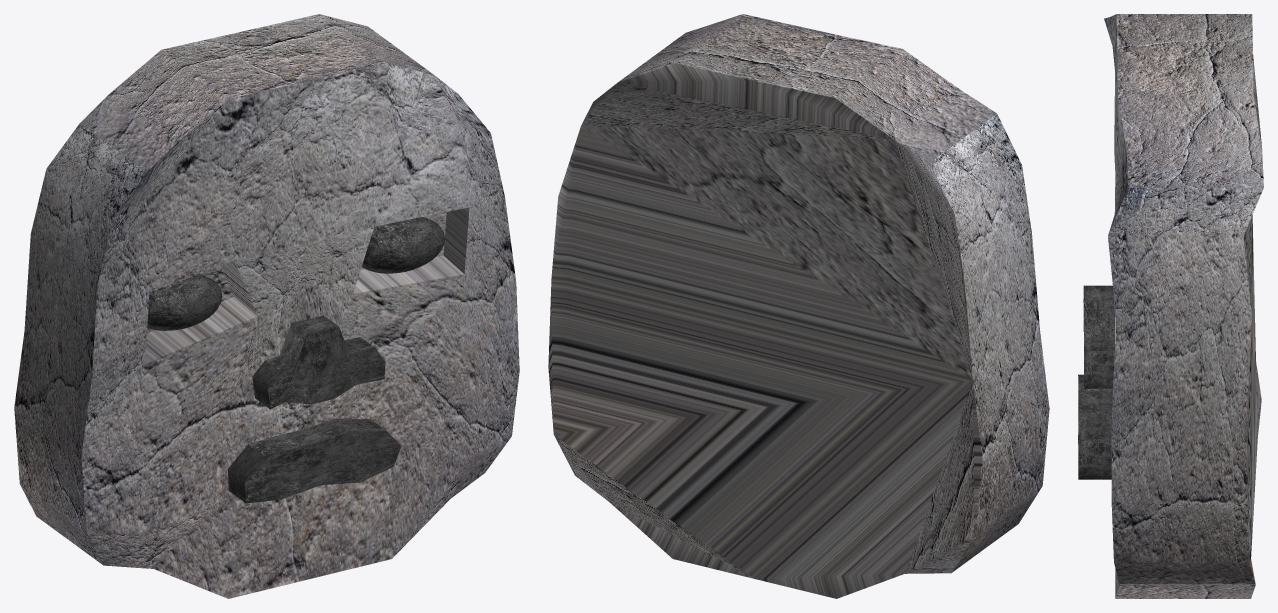
Rendered from cabezaolmeca.obj.
3 views of the same model, side by side, from view 1: azimuth 30°, elevation 25°; view 2: azimuth 150°, elevation 25°; view 3: azimuth 270°, elevation 25° (orthographic).
Visible parts, largest first — view 1: Box001, Box002, Box003, Sphere002, Sphere001; view 2: Box001; view 3: Box001, Box002, Box003.
Boxes of the visible parts, x1,y1,x2,y2 form: Box001: (14, 14, 519, 598); Box002: (227, 418, 401, 503); Box003: (252, 315, 385, 409); Sphere002: (362, 217, 444, 273); Sphere001: (147, 274, 222, 330); Box001: (548, 14, 1049, 598); Box001: (1104, 14, 1263, 598); Box002: (1078, 374, 1112, 479); Box003: (1083, 285, 1114, 388).
Size of the model in its own units: 17.08 by 18.73 by 6.25.
Materials: 2 (2 with a texture image).
